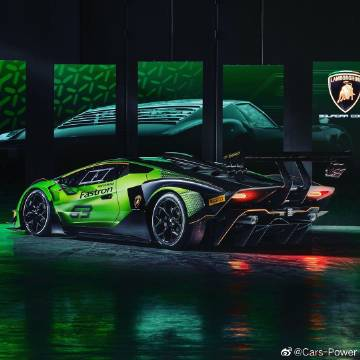other: (11, 155, 340, 251)
